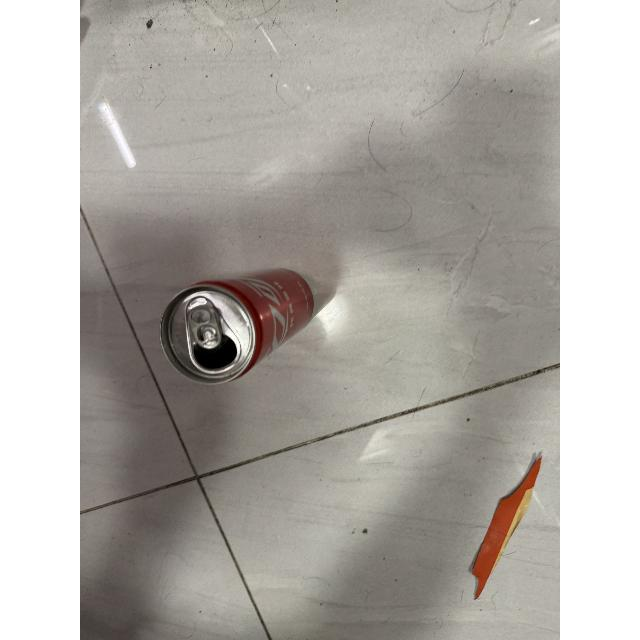coca-cola: (156, 268, 322, 388)
